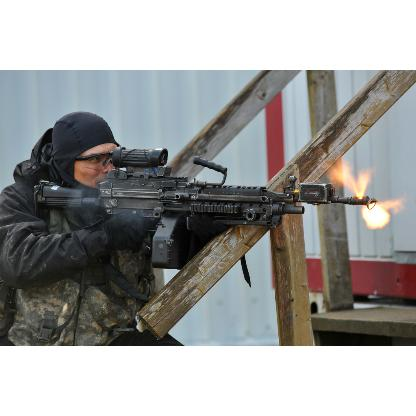gun: (34, 143, 376, 287)
